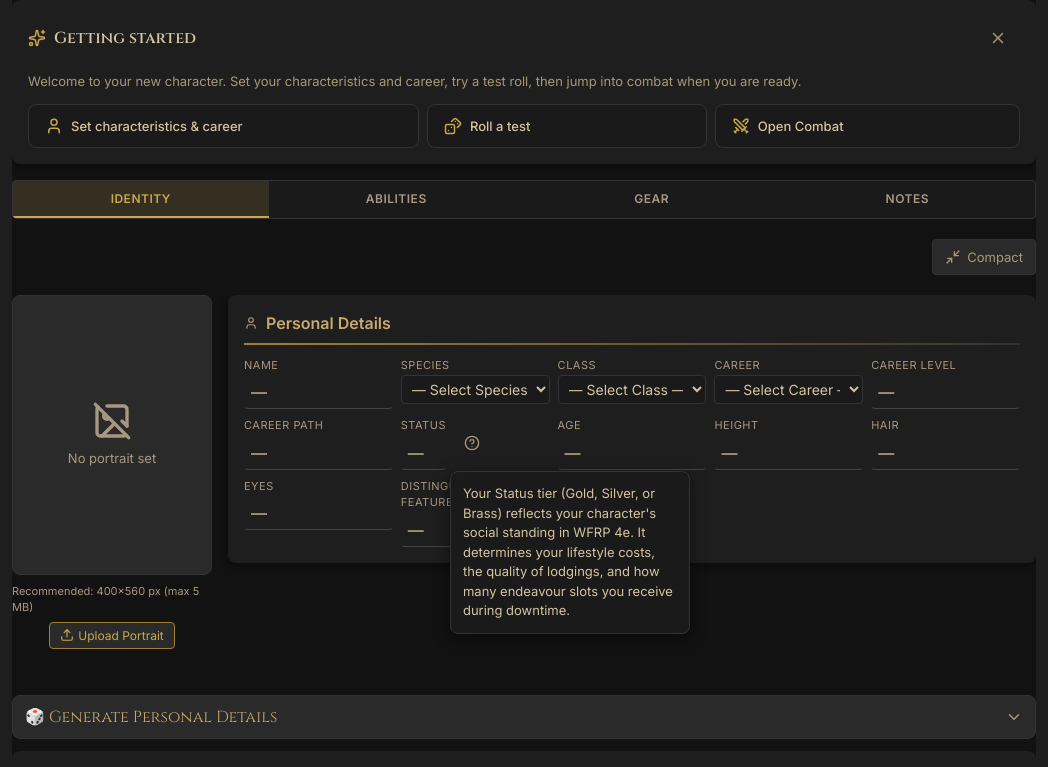
Test case: CalculatedTooltips integration › Keyboard Navigation (Req 6.4) › Enter key activates CB tooltip
The width and height of the screenshot is (1048, 767).
Note: Switch to Identity tab where CB cells are
Click the tab "Identity" at (141, 199), box [13,180,268,218]
(page scrolled)
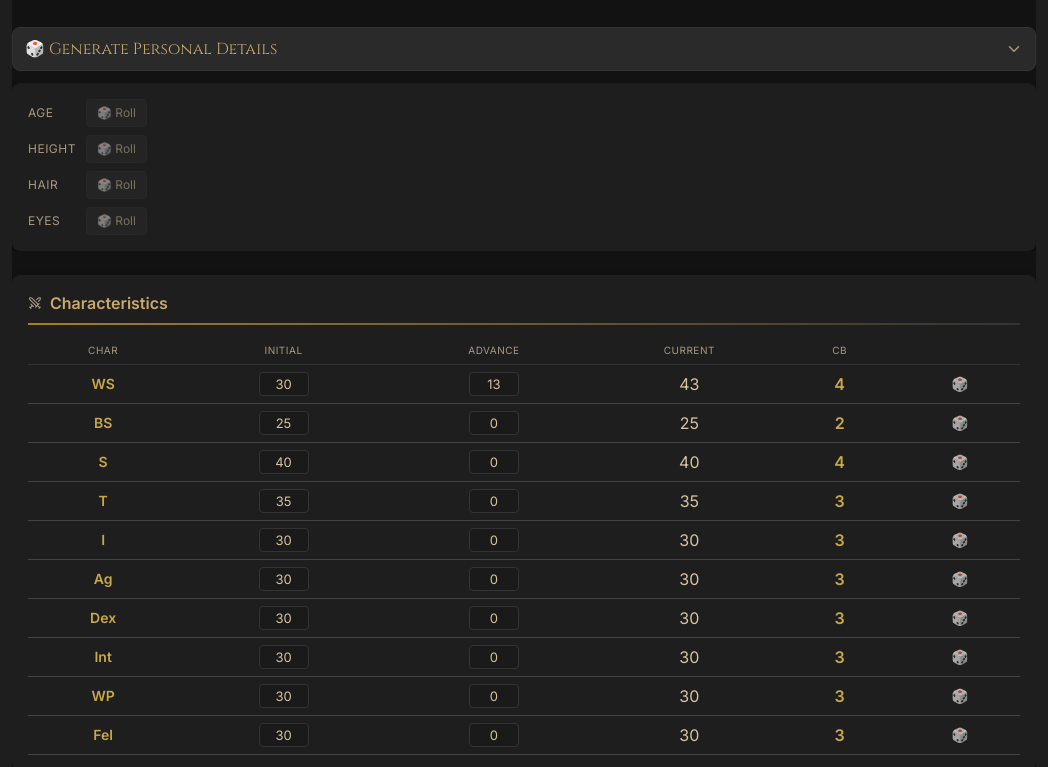
Note: Press Enter to open
Press Enter in the button named "CB breakdown for Weapon Skill", box [834,374,845,394]
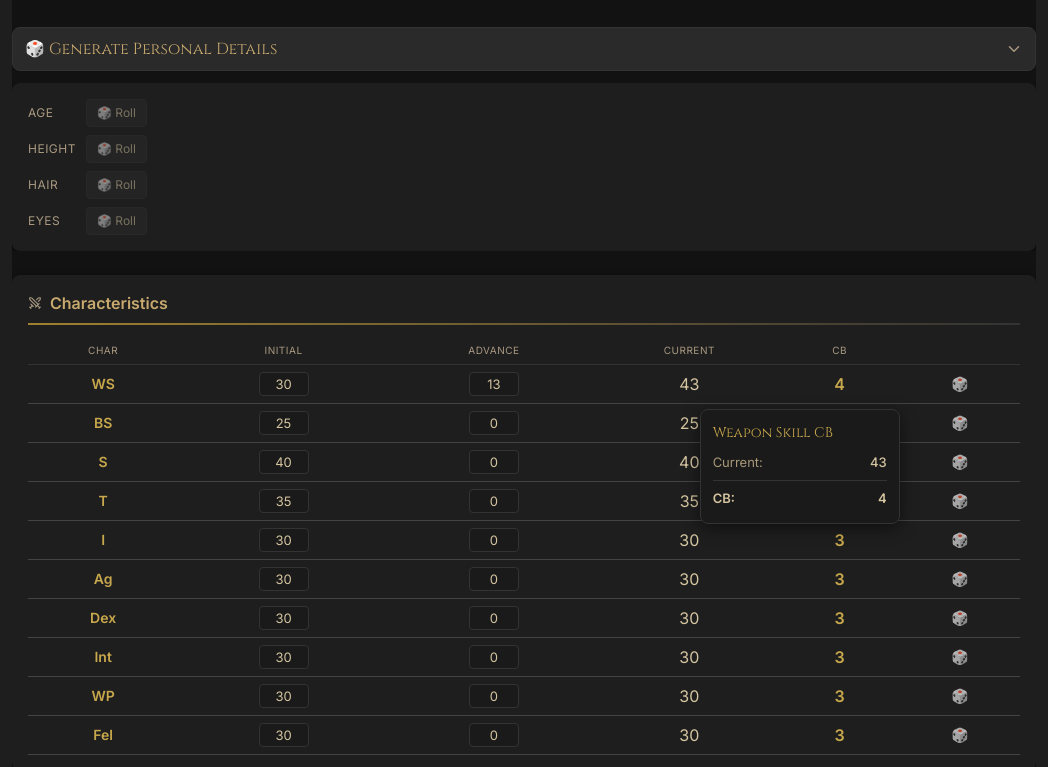
Expected: the tooltip with id "tooltip-breakdown-cb-WS" is shown, [700,408,900,524]
